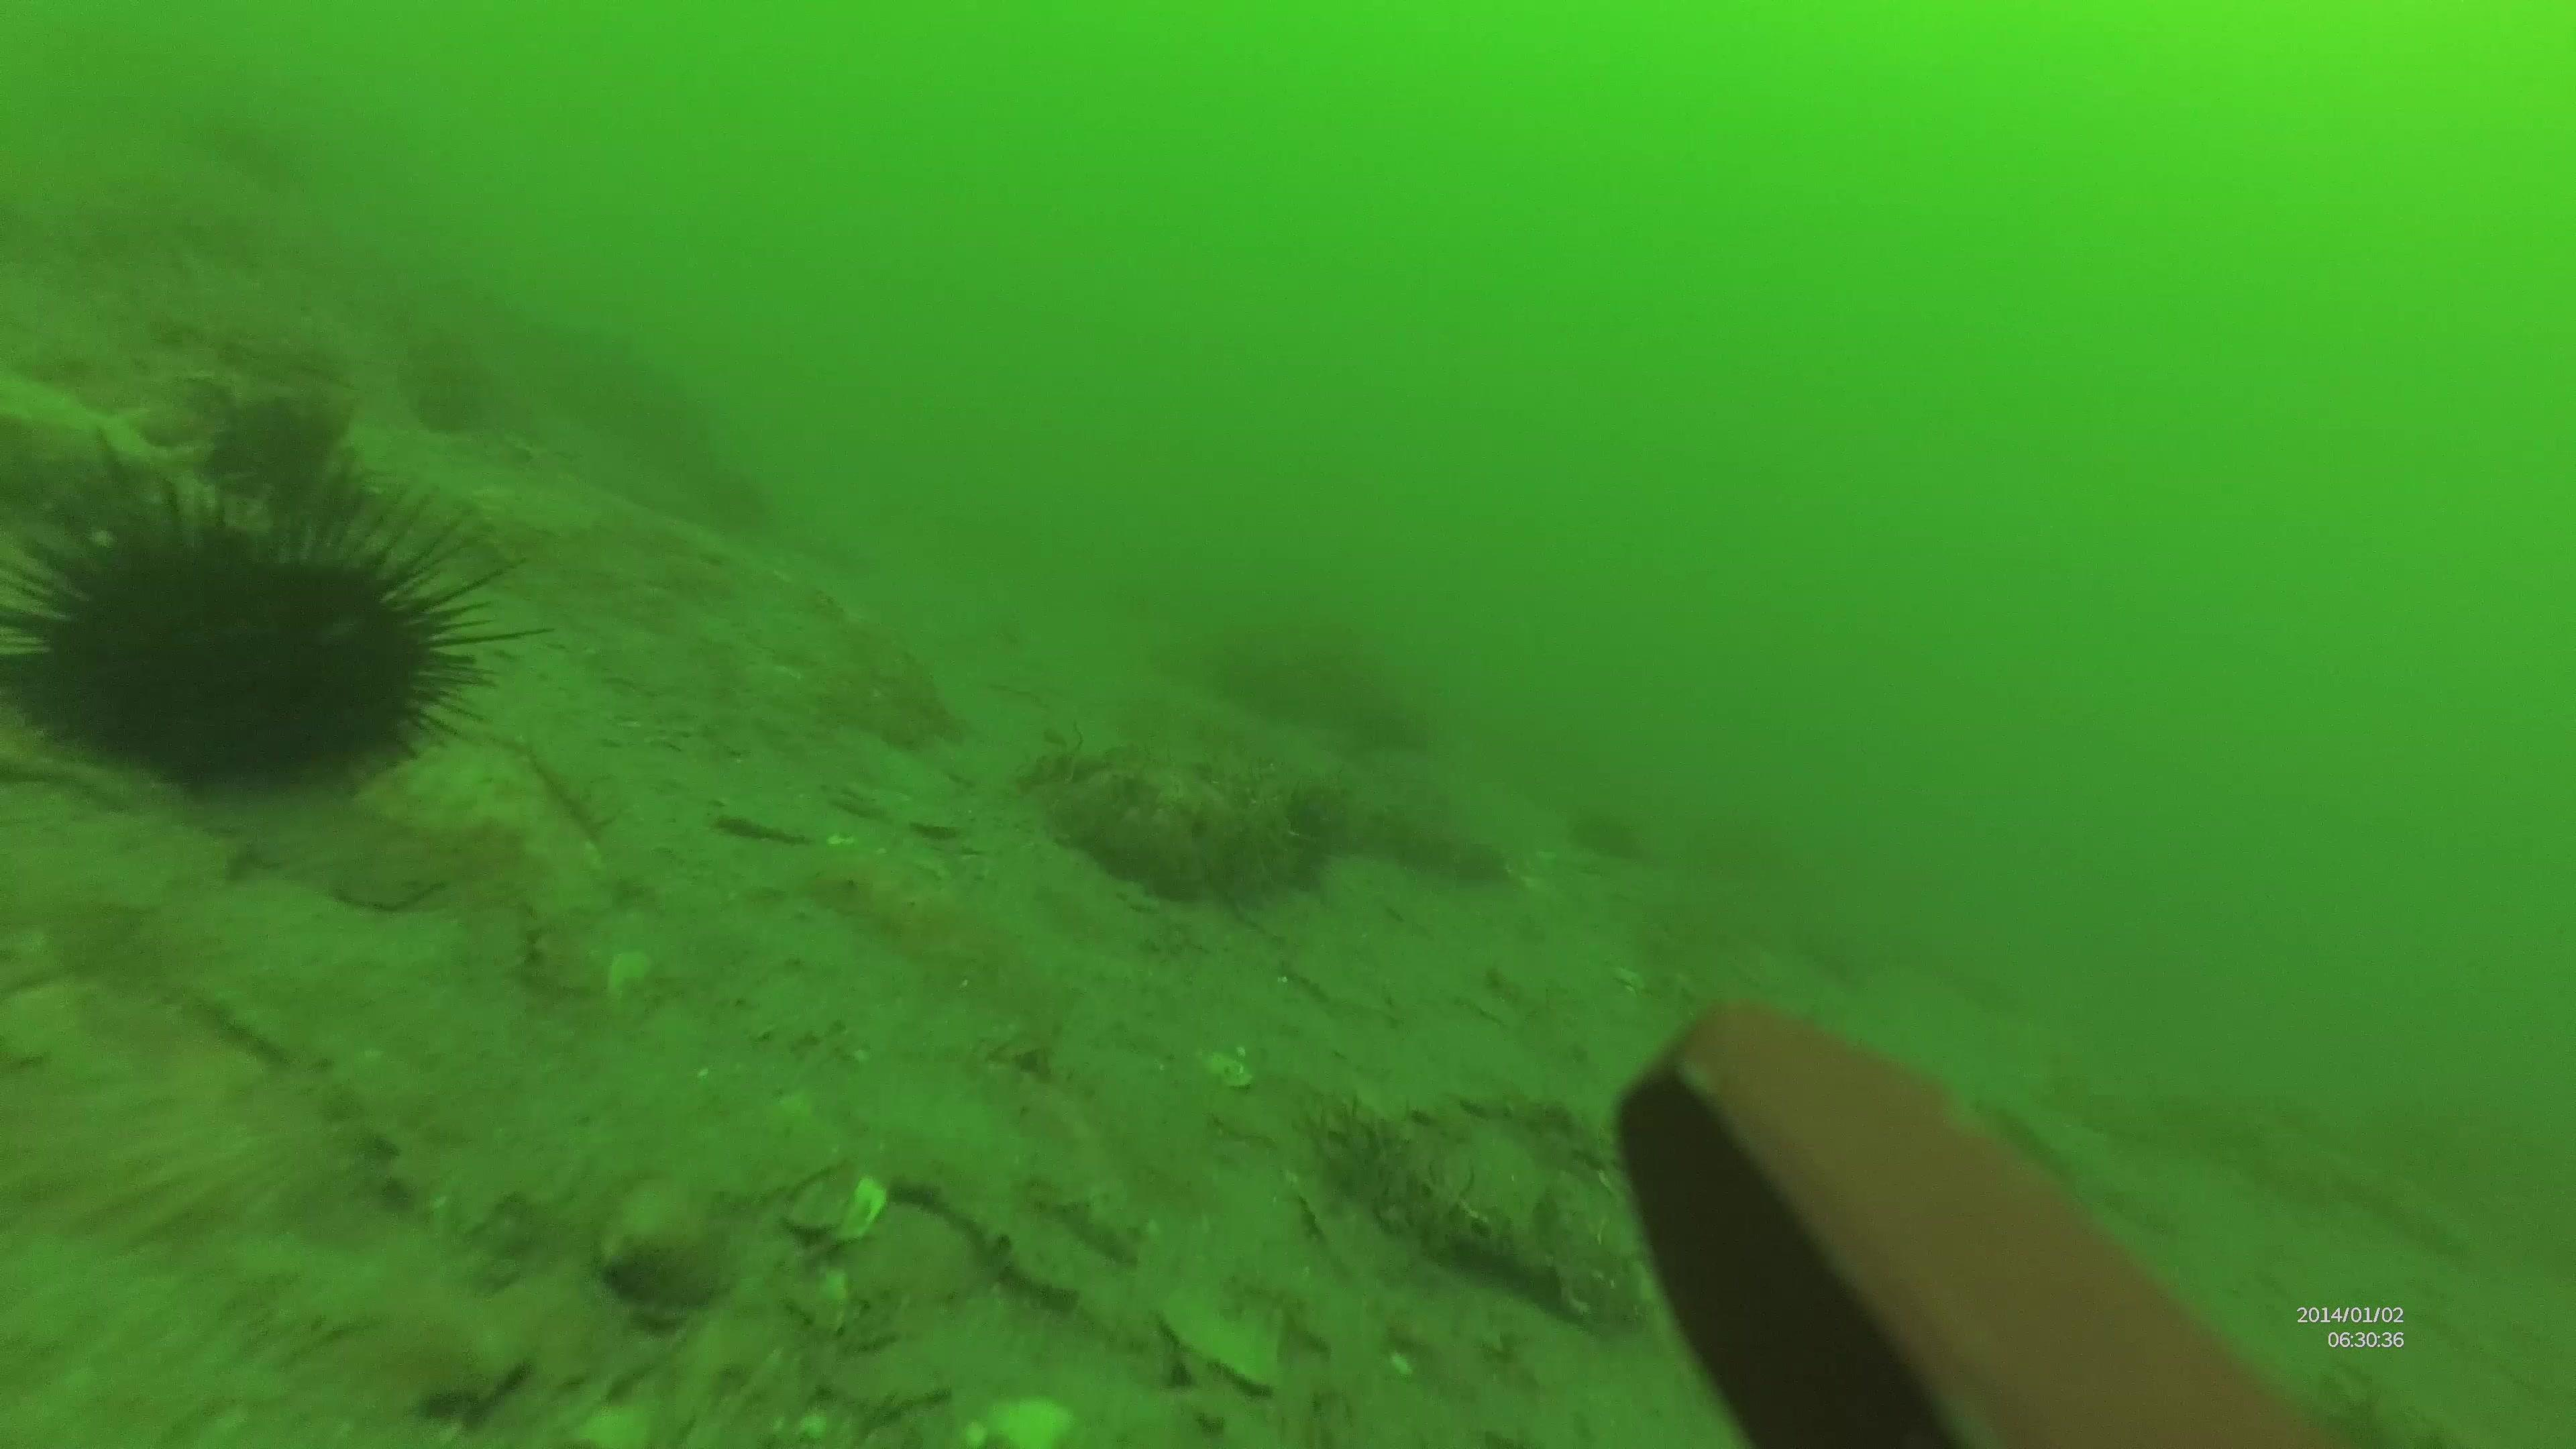echinus: (0, 467, 541, 805)
